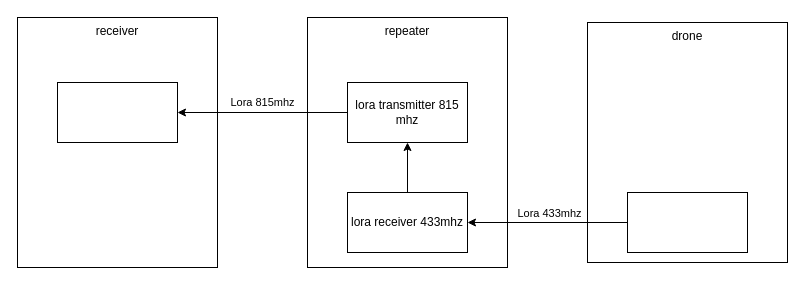
This 805x285 diagram has some shape labels left out. Here are the shapes that lost their labels. From the top down, the centre of each, then its label:
At [117,112]: "lora receiver 815 mhz".
At [687,222]: "lora transmitter 433mhz".
